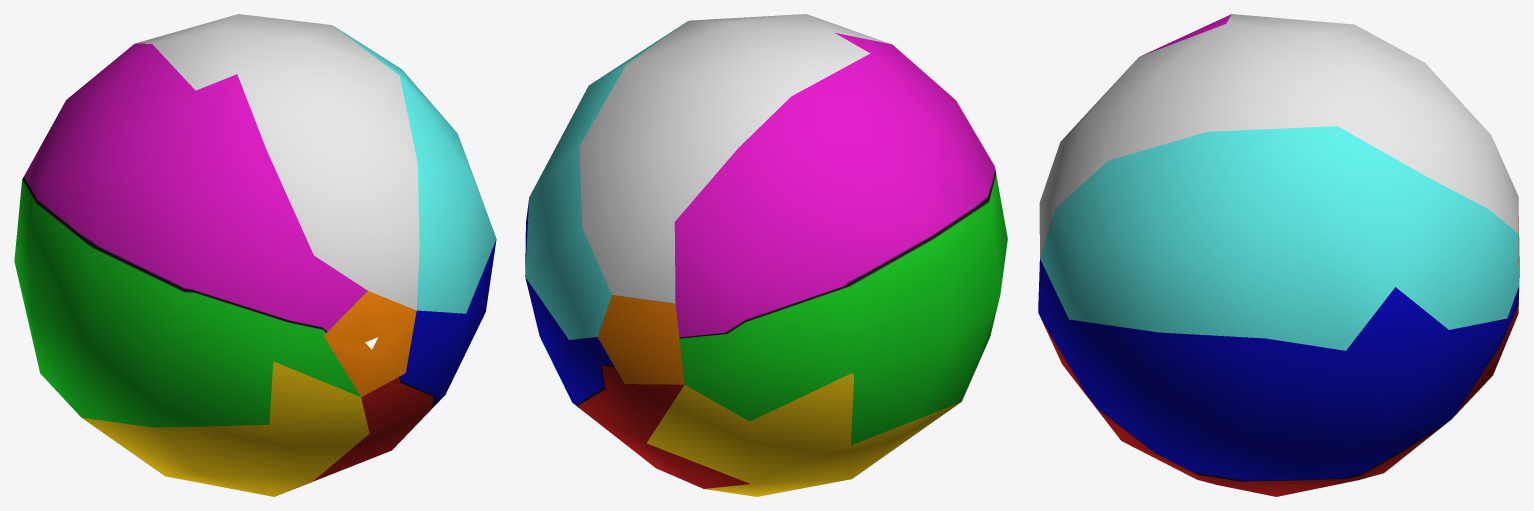
Rendered from ball.glb.
3 views of the same model, side by side, from view 1: azimuth 30°, elevation 25°; view 2: azimuth 150°, elevation 25°; view 3: azimuth 270°, elevation 25° (orthographic).
Visible parts, largest first — view 1: 13517_Beach_Ball_v2_L3; view 2: 13517_Beach_Ball_v2_L3; view 3: 13517_Beach_Ball_v2_L3.
Boxes of the visible parts, <box> form: 13517_Beach_Ball_v2_L3: <box>14,14,496,496</box>; 13517_Beach_Ball_v2_L3: <box>525,14,1007,496</box>; 13517_Beach_Ball_v2_L3: <box>1036,14,1519,496</box>.
Bounding box in the file's own units: 30.53 × 30.6 × 30.71.
Materials: 2 (1 with a texture image).
